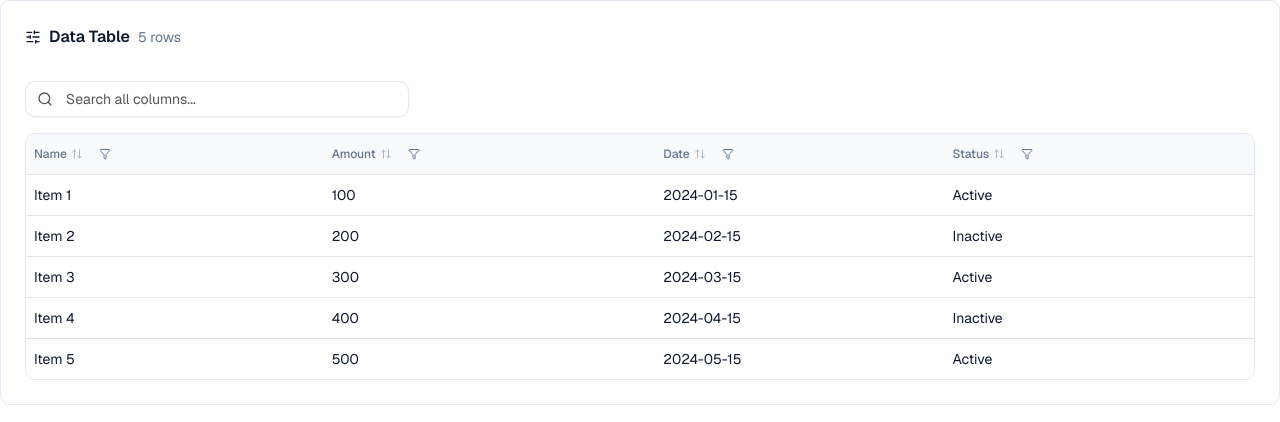
Test: ReportDataTable Component › global search filter (AC-23.6.3) › clear button resets filter
The width and height of the screenshot is (1280, 422).
In the search field with test id "global-search-input": (217, 99) x1=25 y1=81 x2=409 y2=117, type "Item 1"
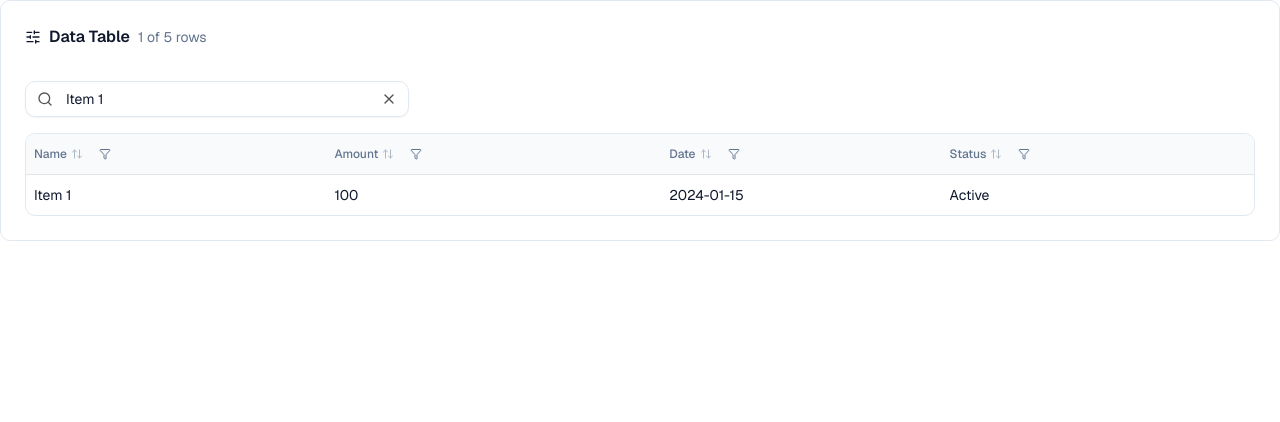
Result: the number of rows with test id "data-row" is 1 at x1=26 y1=174 x2=1254 y2=214
Click the button named "Clear search": (389, 99) x1=381 y1=91 x2=397 y2=107
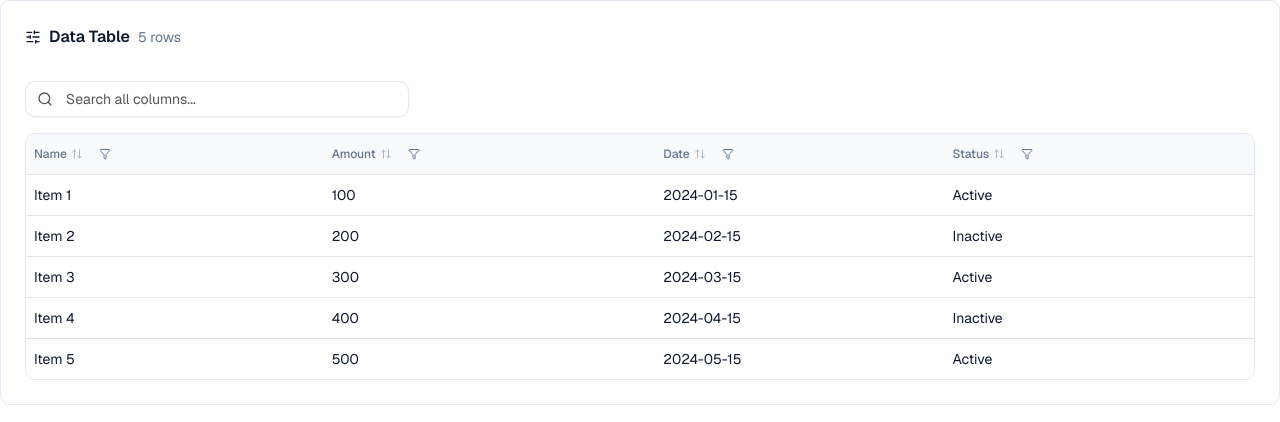
Result: the number of rows with test id "data-row" is 5 at x1=26 y1=174 x2=1254 y2=215; x1=26 y1=215 x2=1254 y2=256; x1=26 y1=256 x2=1254 y2=297; x1=26 y1=297 x2=1254 y2=338; x1=26 y1=338 x2=1254 y2=378
